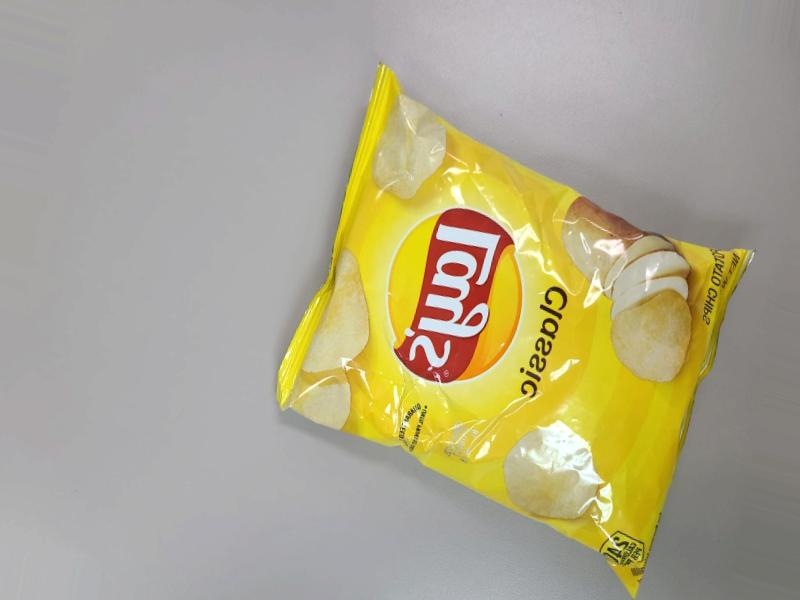lays: (381, 0, 715, 600)
